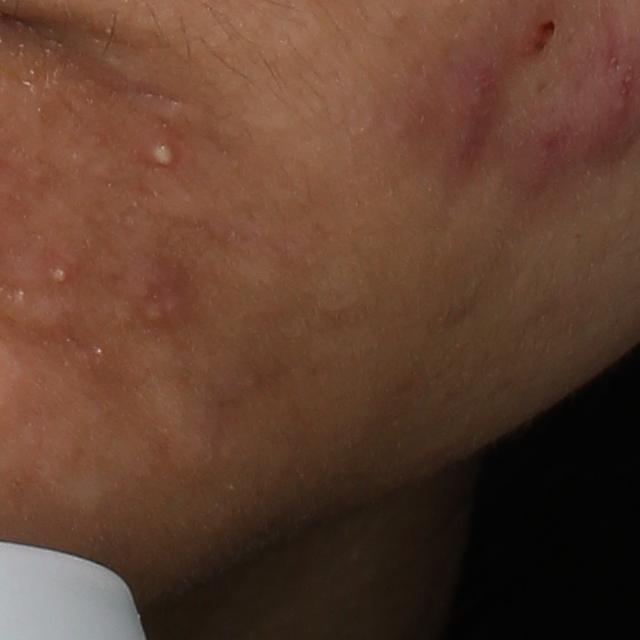papule: (447, 59, 503, 162), (519, 9, 560, 54)
pustule: (143, 134, 188, 175), (44, 258, 78, 293)
